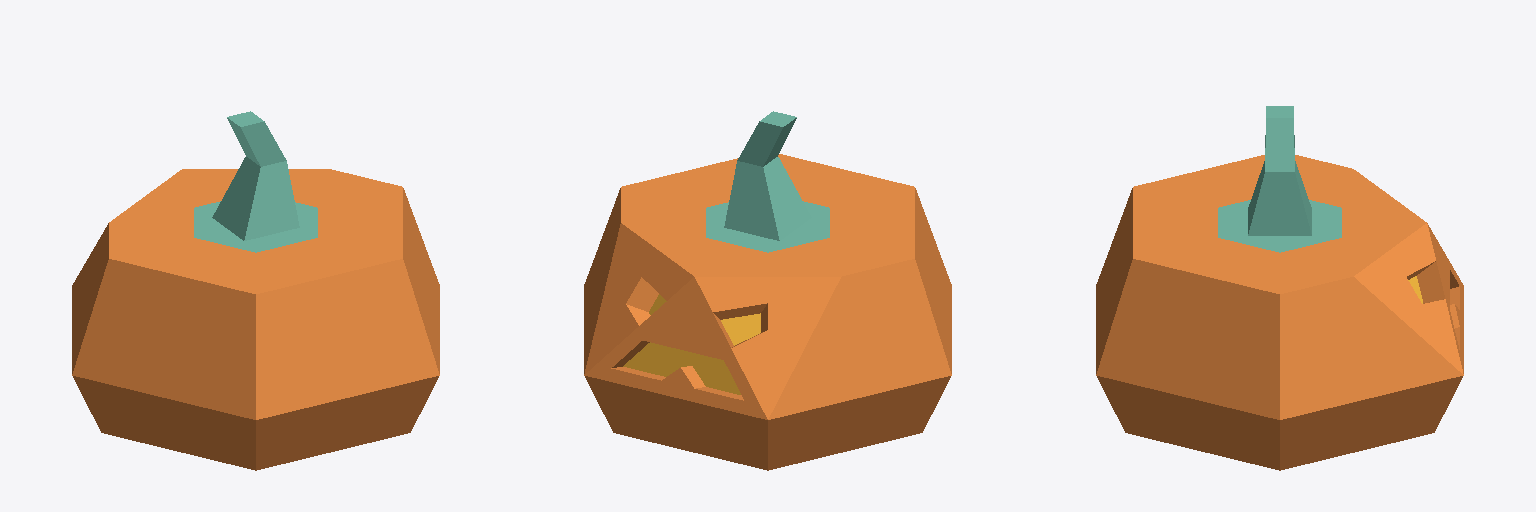
The model's file is pumpkinCarved.obj.
3 renders of one model, left to right at view 1: azimuth 30°, elevation 25°; view 2: azimuth 150°, elevation 25°; view 3: azimuth 270°, elevation 25°, orthographic.
Visible parts, largest first — view 1: pumpkinCarved; view 2: pumpkinCarved; view 3: pumpkinCarved.
Part boxes in pixels (left/top/right/bottom): pumpkinCarved: left=72, top=111, right=439, bottom=470; pumpkinCarved: left=584, top=111, right=951, bottom=470; pumpkinCarved: left=1096, top=106, right=1463, bottom=470.
Size of the model in its own units: 0.357 by 0.2583 by 0.3092.